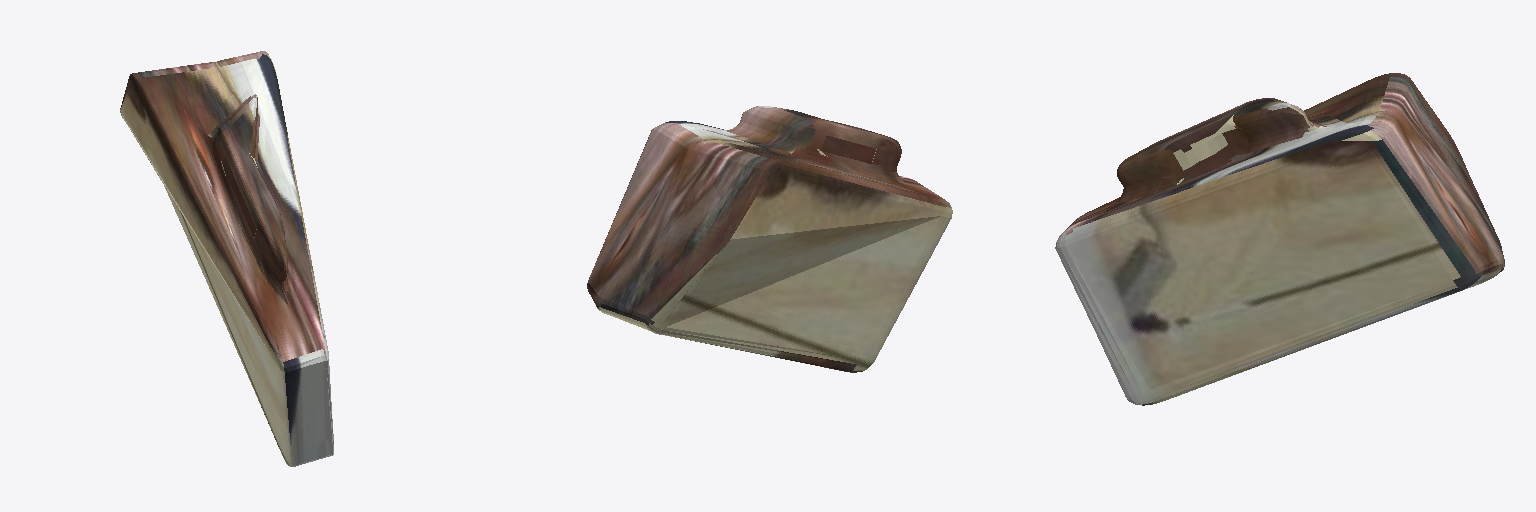
3 views of the same model, side by side, from view 1: azimuth 30°, elevation 25°; view 2: azimuth 150°, elevation 25°; view 3: azimuth 270°, elevation 25° (orthographic).
Visible parts, largest first — view 1: Cube; view 2: Cube; view 3: Cube.
Boxes of the visible parts, x1,y1,x2,y2 form: Cube: [120, 51, 333, 466]; Cube: [587, 106, 952, 372]; Cube: [1055, 73, 1504, 405].
Size of the model in its own units: 7.28 by 13.22 by 17.44.
1 materials, 1 textured.